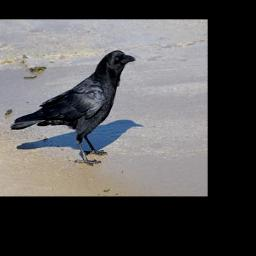Crow: (11, 50, 136, 166)
